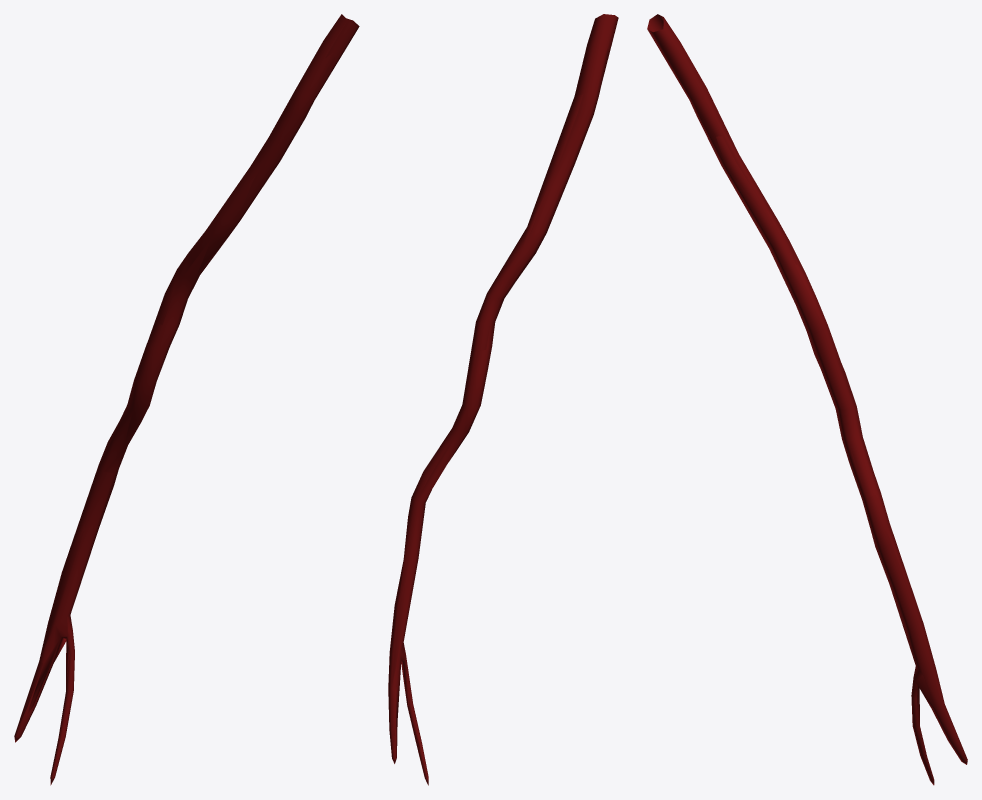
Rendered from R poplitea.fbx.
3 renders of one model, left to right at view 1: azimuth 90°, elevation 25°; view 2: azimuth 150°, elevation 25°; view 3: azimuth 270°, elevation 25°, orthographic. The views are drawn at different scales.
Parts seen in each view (by area): view 1: R poplitea, R poplitea low; view 2: R poplitea, R poplitea low; view 3: R poplitea, R poplitea low.
Part boxes in pixels (<box>): R poplitea: <box>14,14,358,785</box>; R poplitea low: <box>15,18,359,742</box>; R poplitea: <box>388,14,614,785</box>; R poplitea low: <box>391,15,618,757</box>; R poplitea: <box>647,14,967,785</box>; R poplitea low: <box>647,14,960,752</box>.
Bounding box in the file's own units: 2.93 × 19.28 × 7.54.
